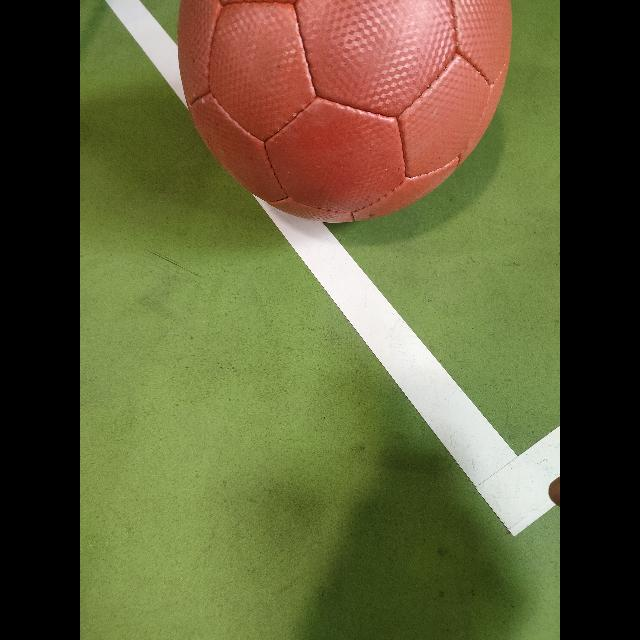R: (175, 0, 510, 224)
